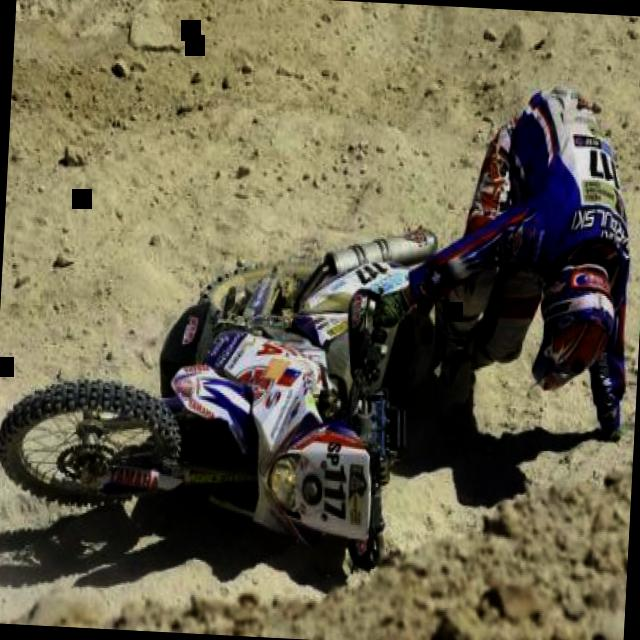Fall-Detected: (354, 45, 640, 470)
